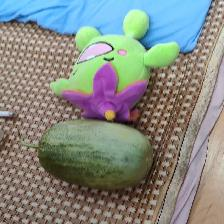gua: (36, 121, 150, 178)
